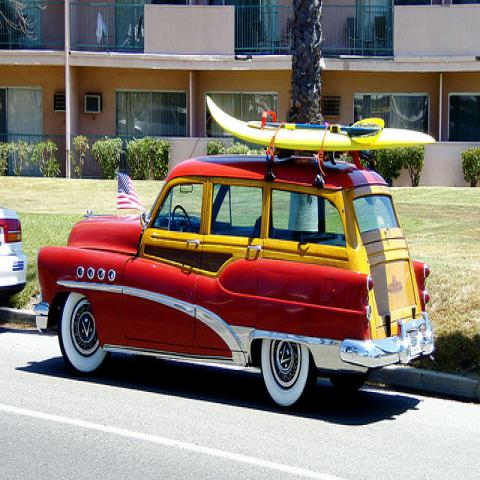car: (35, 91, 439, 410), (0, 209, 27, 306)
